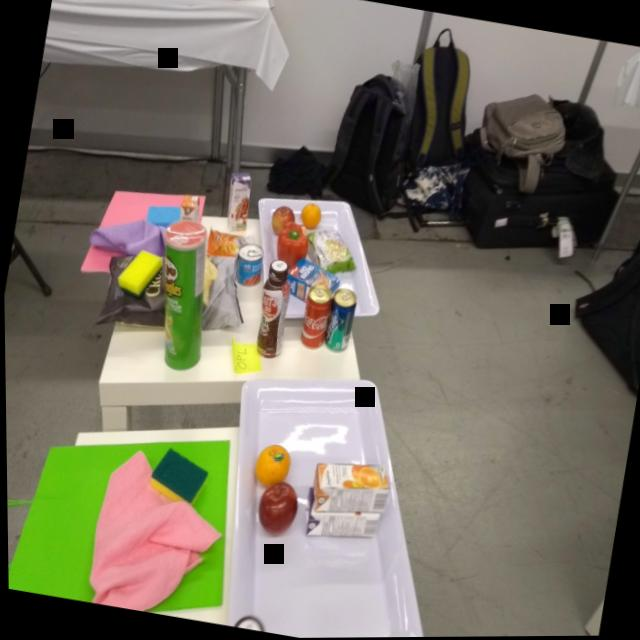apple: (250, 475, 303, 541)
chocolate_drink: (248, 258, 298, 363)
coke: (294, 281, 334, 352)
grape_juice: (220, 168, 256, 236)
noodles: (298, 223, 361, 279)
orange: (250, 437, 294, 492), (296, 199, 324, 232)
orange_juice: (305, 450, 394, 521)
paprika: (271, 221, 311, 271)
pringles: (139, 214, 224, 376)
sausages: (229, 240, 267, 291)
scrubby: (142, 444, 211, 514), (113, 244, 165, 302)
sprite: (320, 284, 360, 358)
